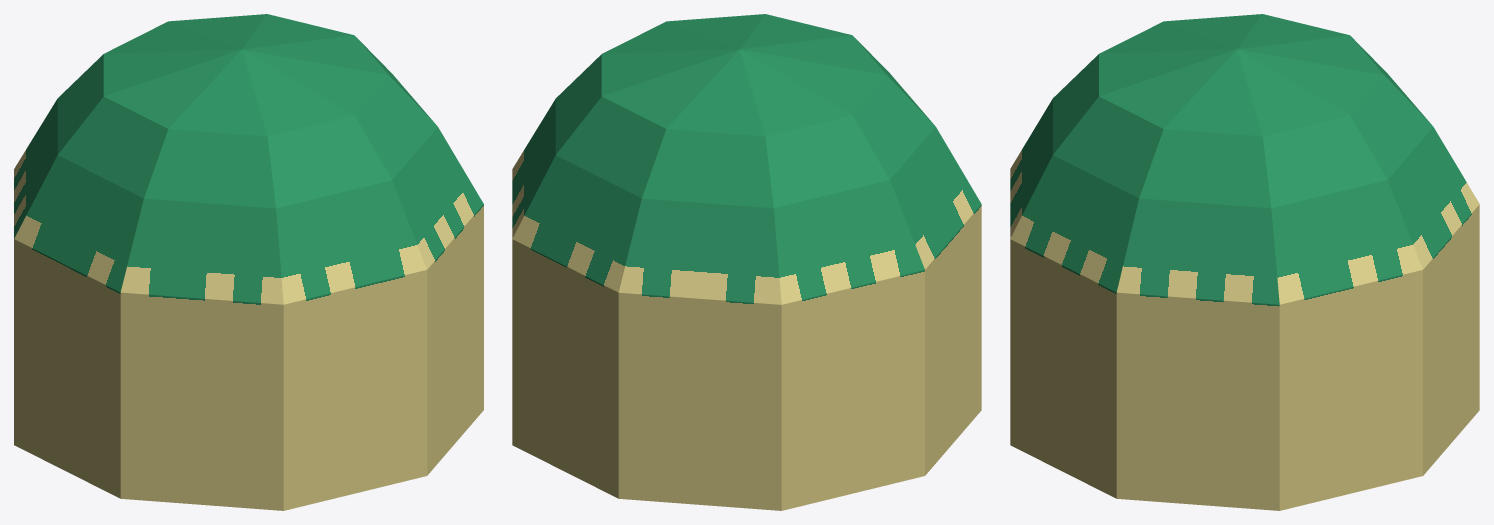
File: bluff.obj
The picture shows the model from 3 angles, left to right: view 1: azimuth 30°, elevation 25°; view 2: azimuth 150°, elevation 25°; view 3: azimuth 270°, elevation 25°; orthographic projection.
Parts seen in each view (by area): view 1: cylinder; view 2: cylinder; view 3: cylinder.
Part boxes in pixels (x1,y1,x2,y2): cylinder: (14, 14, 483, 510); cylinder: (512, 14, 981, 510); cylinder: (1010, 14, 1479, 510).
Size of the model in its own units: 0.524 by 0.4375 by 0.516.
1 material, 1 textured.
